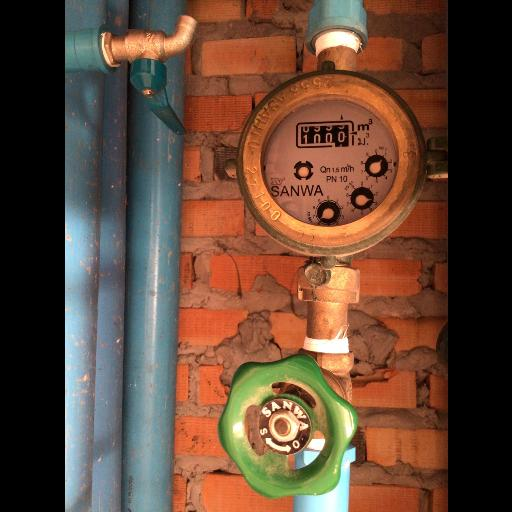0: (335, 125, 347, 147), (300, 126, 310, 144)
9: (322, 126, 334, 144), (312, 126, 323, 144)
border_water_meter_number: (295, 120, 357, 148)
